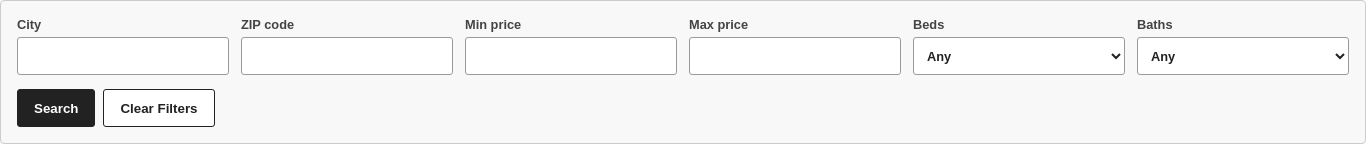
Test: clear resets every input and reloads all properties
Type "Dallas" into the field labelled "City" at point(123, 56), box [17,37,229,75]
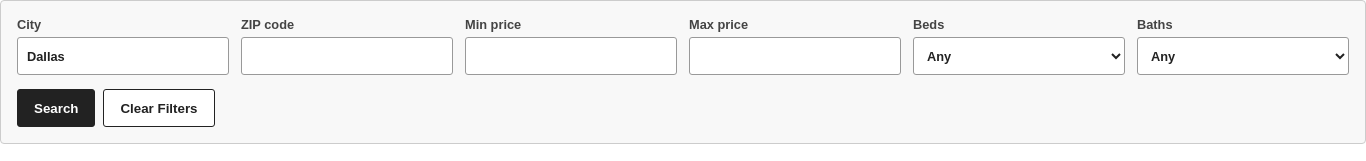
Select "2+" in the dropdown labelled "Baths" at point(1243, 56), box [1137,37,1349,75]
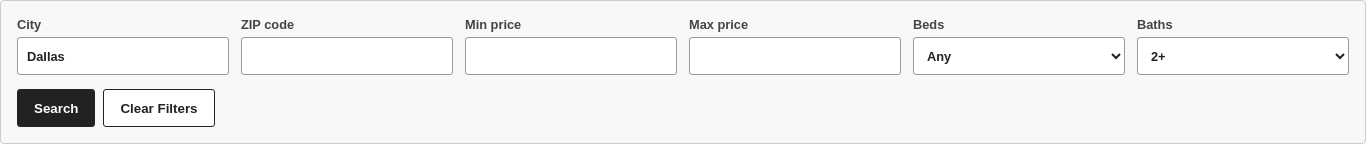
Click the button "Clear Filters" at point(159, 108), box [104,89,214,127]
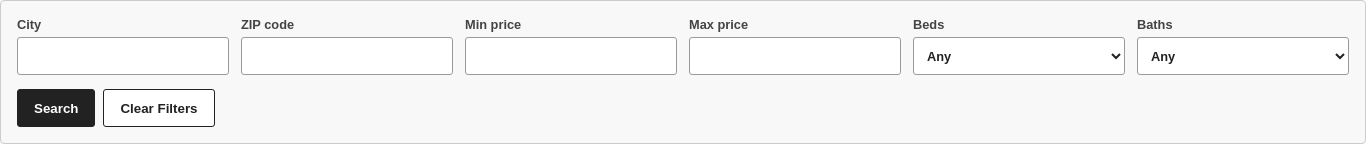
Expected: the field labelled "City" is empty, [17,37,229,75]
